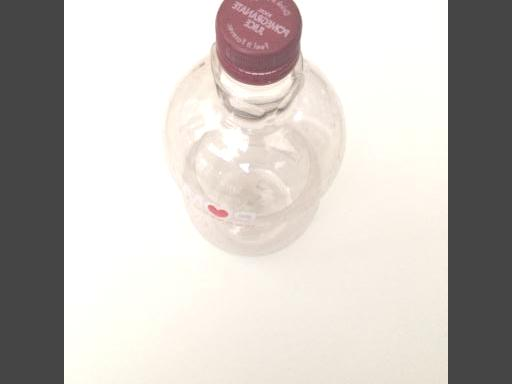bottle: (151, 0, 350, 265)
